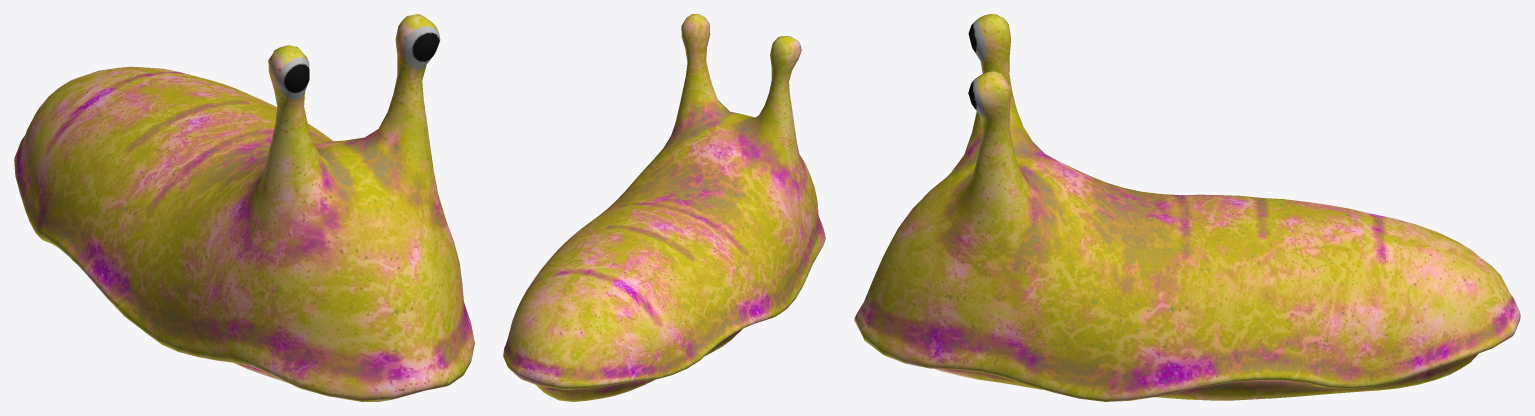
The model's file is Babosa.glb.
The picture shows the model from 3 angles, left to right: view 1: azimuth 30°, elevation 25°; view 2: azimuth 150°, elevation 25°; view 3: azimuth 270°, elevation 25°; orthographic projection. The views are drawn at different scales.
Parts seen in each view (by area): view 1: Babosa; view 2: Babosa; view 3: Babosa.
Part boxes in pixels (x1,y1,x2,y2): Babosa: [14, 14, 474, 401]; Babosa: [503, 14, 825, 401]; Babosa: [854, 14, 1520, 401].
Size of the model in its own units: 0.0141 by 0.0165 by 0.0311.
1 material, 1 textured.
